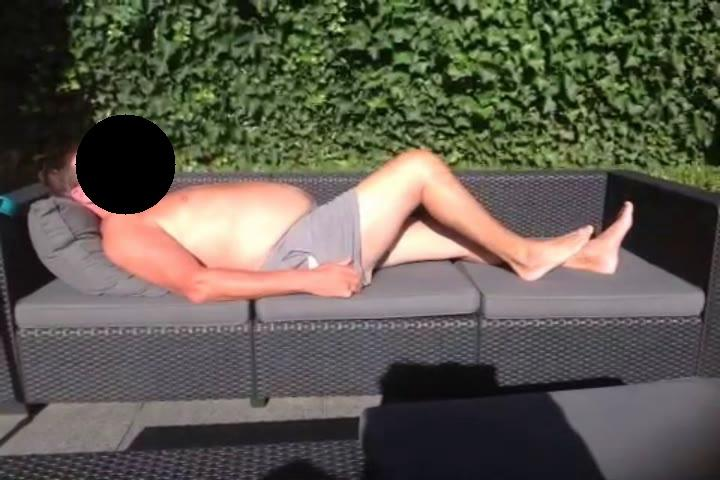lower_body: (291, 148, 637, 285)
